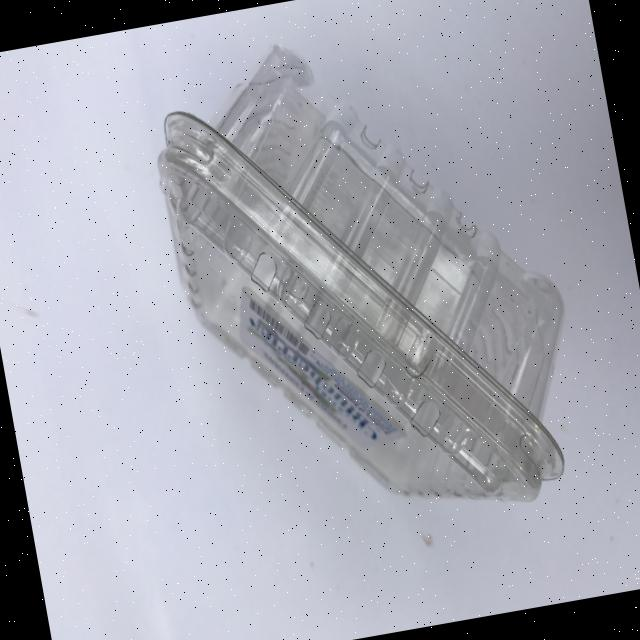plastic: (103, 7, 612, 580)
